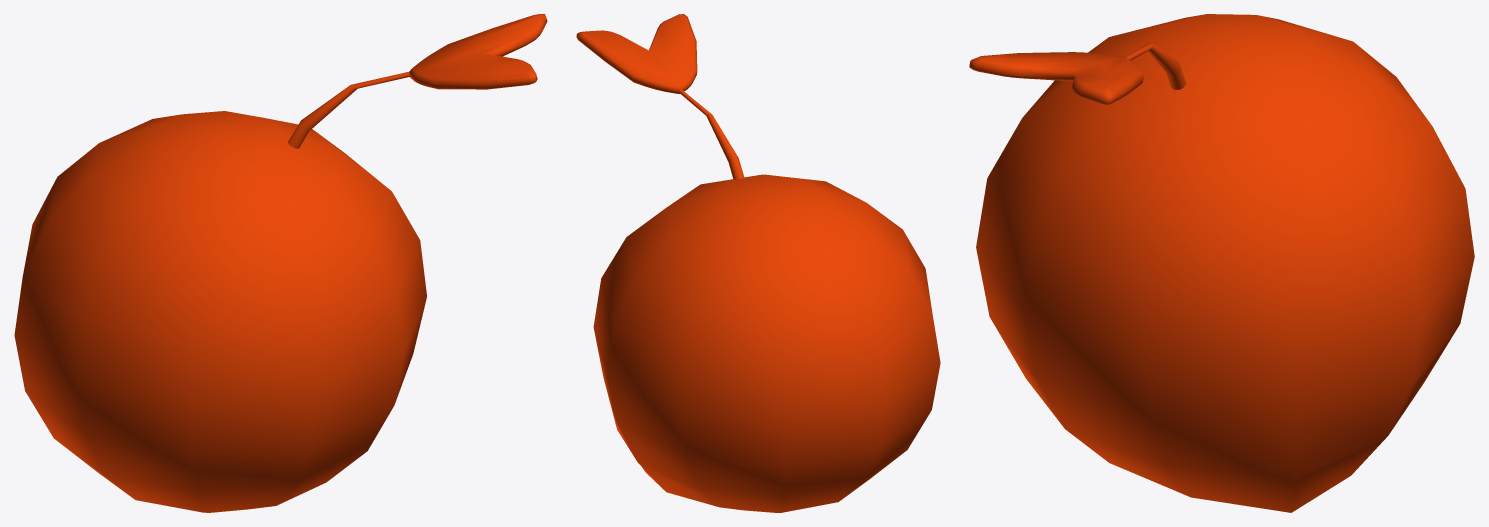
File: Laranja.fbx
The picture shows the model from 3 angles, left to right: view 1: azimuth 30°, elevation 25°; view 2: azimuth 150°, elevation 25°; view 3: azimuth 270°, elevation 25°; orthographic projection. The views are drawn at different scales.
Visible parts, largest first — view 1: Sphere.001; view 2: Sphere.001; view 3: Sphere.001.
Part boxes in pixels (x1=…): Sphere.001: x1=14, y1=14, x2=547, y2=512; Sphere.001: x1=576, y1=14, x2=940, y2=512; Sphere.001: x1=969, y1=14, x2=1474, y2=512.
Bounding box in the file's own units: 289 × 276 × 237.
